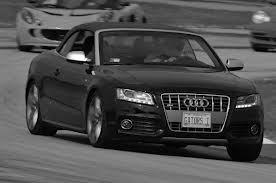car: (25, 29, 265, 163)
